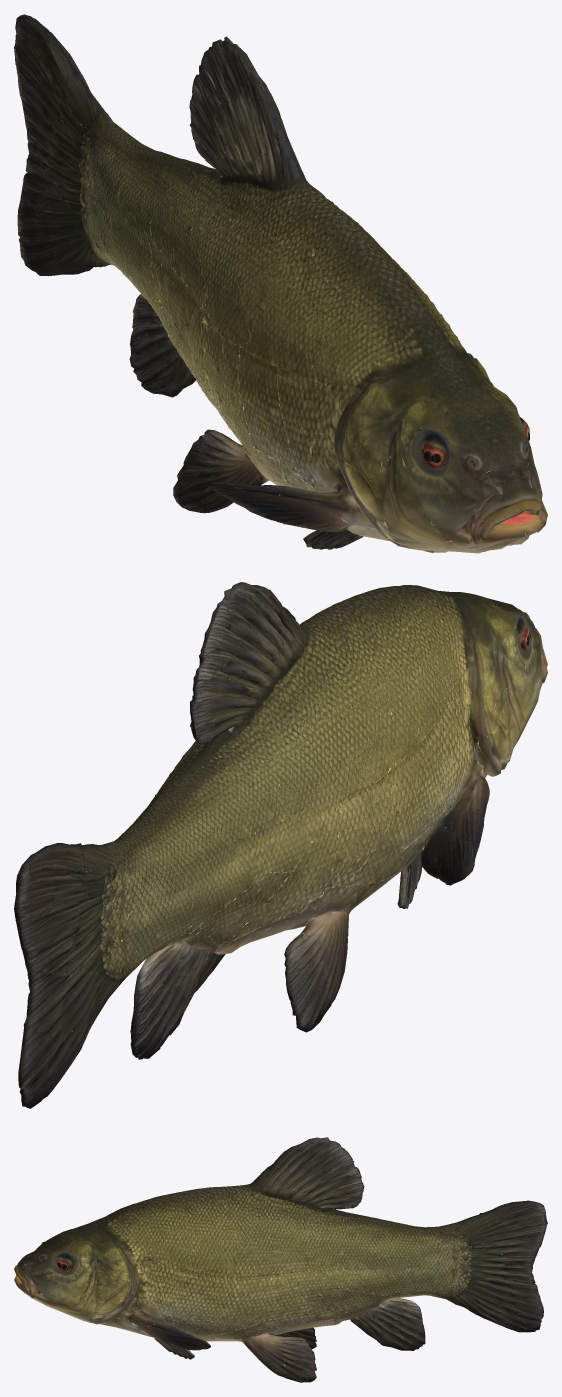
File: lin.glb
3 renders of one model, top to bottom at view 1: azimuth 30°, elevation 25°; view 2: azimuth 150°, elevation 25°; view 3: azimuth 270°, elevation 25°, orthographic. The views are drawn at different scales.
Visible parts, largest first — view 1: Mesh_0; view 2: Mesh_0; view 3: Mesh_0.
Part boxes in pixels (x1,y1,x2,y2): Mesh_0: [14, 14, 547, 553]; Mesh_0: [14, 582, 547, 1108]; Mesh_0: [14, 1137, 547, 1382].
Bounding box in the file's own units: 0.5642 × 0.9022 × 1.9.
Materials: 1 (1 with a texture image).
